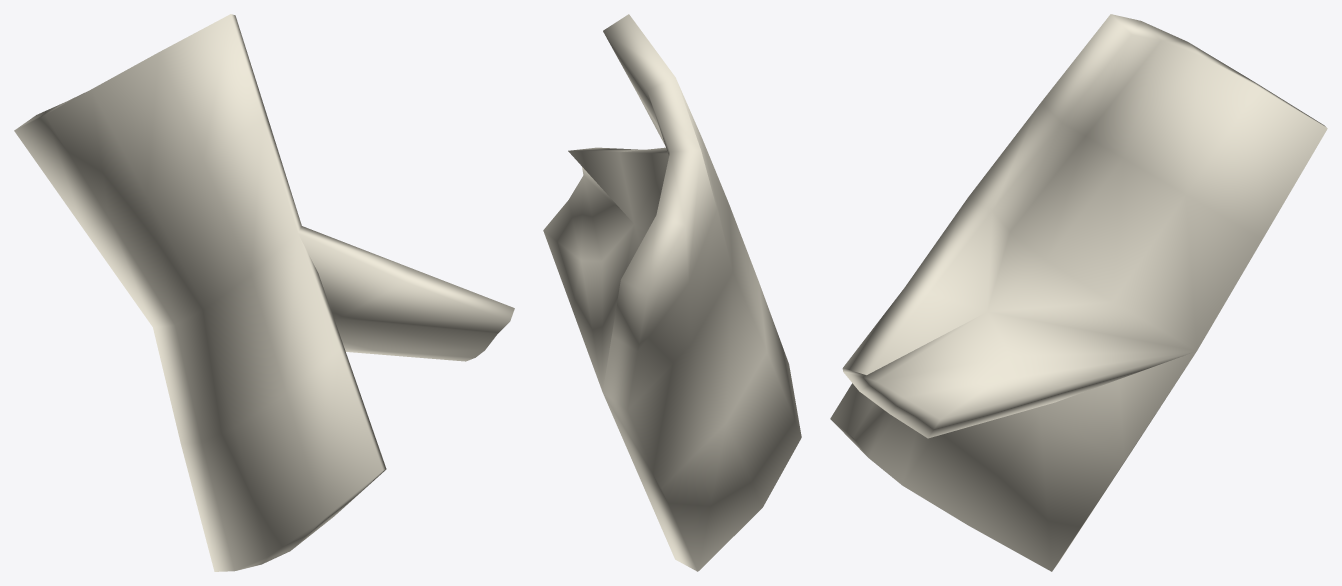
The picture shows the model from 3 angles, left to right: view 1: azimuth 30°, elevation 25°; view 2: azimuth 150°, elevation 25°; view 3: azimuth 270°, elevation 25°; orthographic projection. The views are drawn at different scales.
Parts seen in each view (by area): view 1: ZA_292023af0b502e7f; view 2: ZA_292023af0b502e7f; view 3: ZA_292023af0b502e7f.
Part boxes in pixels (x1=…): ZA_292023af0b502e7f: x1=14, y1=14, x2=514, y2=571; ZA_292023af0b502e7f: x1=543, y1=14, x2=801, y2=571; ZA_292023af0b502e7f: x1=830, y1=14, x2=1327, y2=571.
Bounding box in the file's own units: 0.00571 × 0.00998 × 0.0079.
